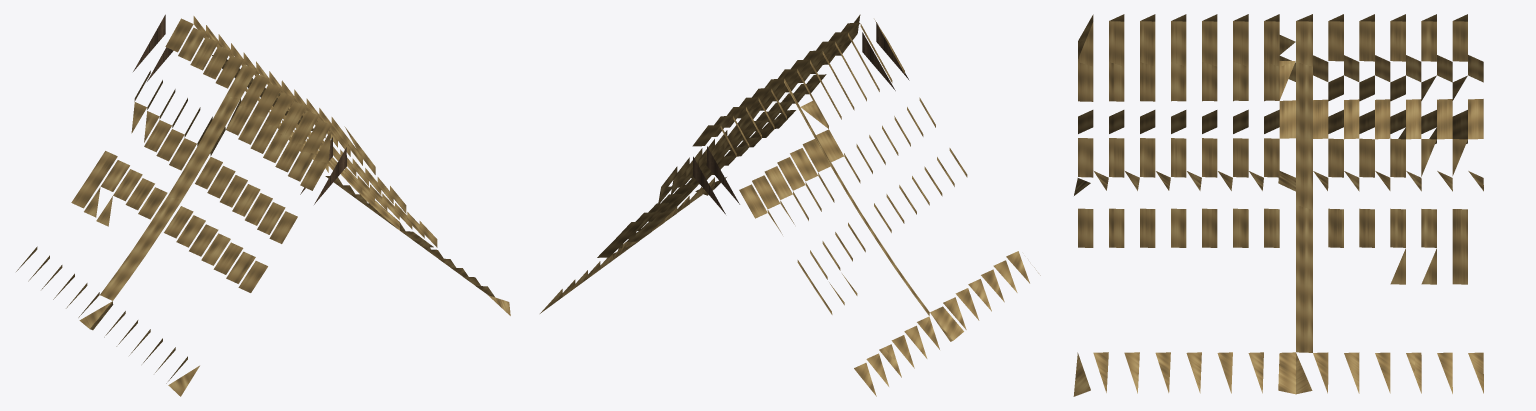
Rendered from Roof_Thatch_6x6_LOD2.gltf.
3 views of the same model, side by side, from view 1: azimuth 30°, elevation 25°; view 2: azimuth 150°, elevation 25°; view 3: azimuth 270°, elevation 25° (orthographic). The views are drawn at different scales.
Parts seen in each view (by area): view 1: Roof_Thatch_6x6_LOD2; view 2: Roof_Thatch_6x6_LOD2; view 3: Roof_Thatch_6x6_LOD2.
Boxes of the visible parts, <box> form: Roof_Thatch_6x6_LOD2: <box>16,14,510,396</box>; Roof_Thatch_6x6_LOD2: <box>540,14,1040,396</box>; Roof_Thatch_6x6_LOD2: <box>1073,14,1483,396</box>.
Size of the model in its own units: 8.25 by 5.17 by 7.59.
2 materials, 2 textured.
